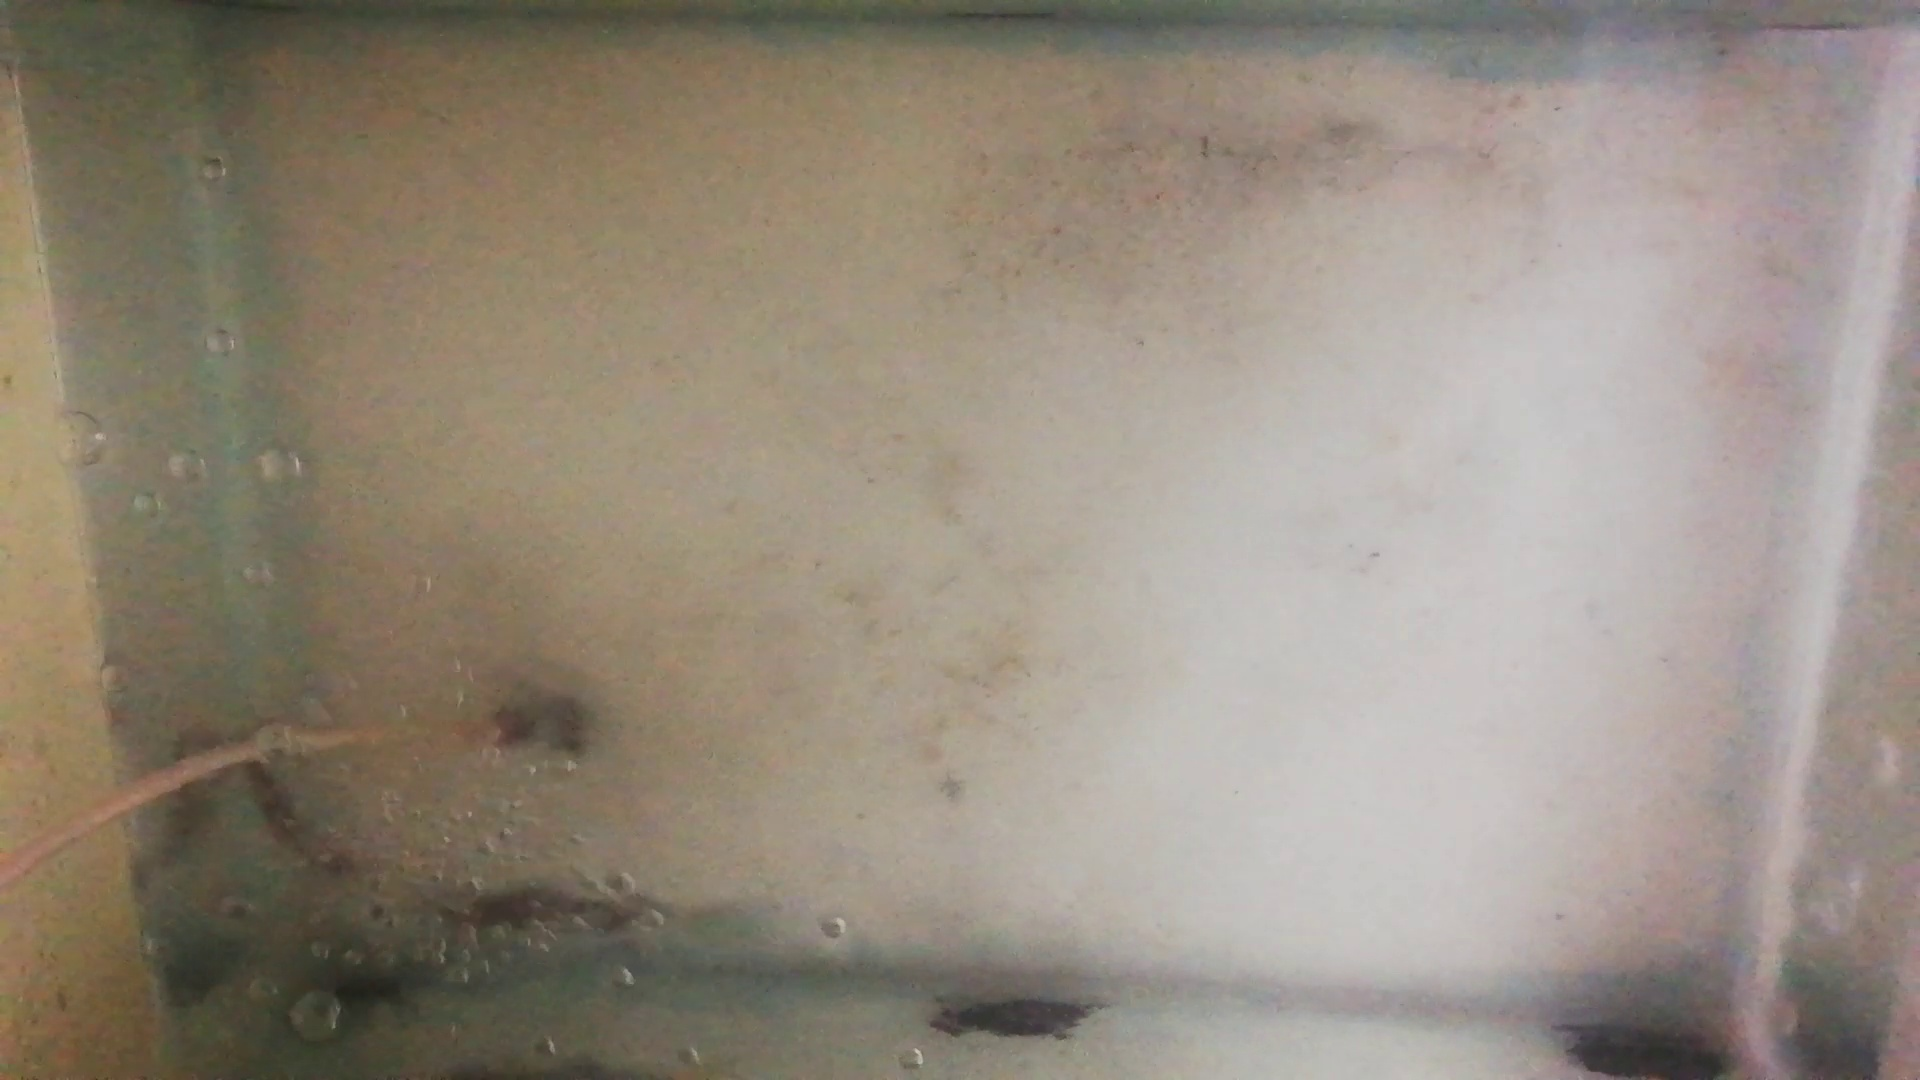fish: (240, 738, 348, 876), (436, 887, 637, 942)
